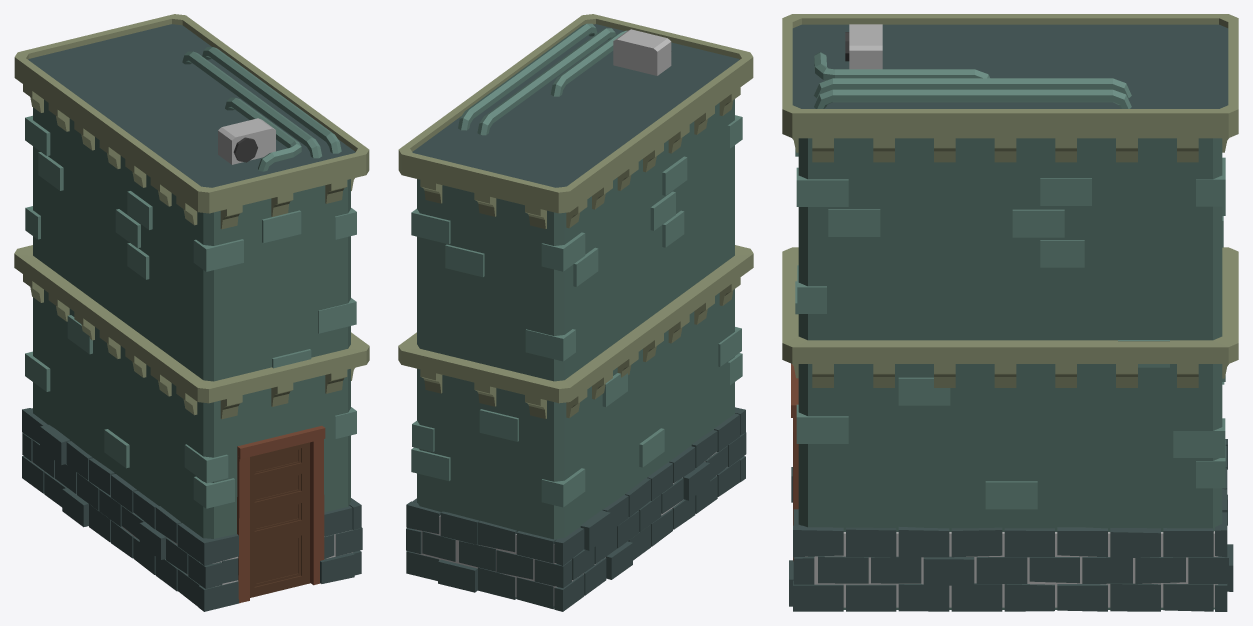
Rendered from 2Story_Slim_Mat.glb.
The picture shows the model from 3 angles, left to right: view 1: azimuth 30°, elevation 25°; view 2: azimuth 150°, elevation 25°; view 3: azimuth 270°, elevation 25°; orthographic projection. The views are drawn at different scales.
Visible parts, largest first — view 1: 2Story_Slim_Mat; view 2: 2Story_Slim_Mat; view 3: 2Story_Slim_Mat.
Boxes of the visible parts, box(x1,y1,x2,y2) form: 2Story_Slim_Mat: box(14, 14, 369, 611); 2Story_Slim_Mat: box(398, 14, 753, 611); 2Story_Slim_Mat: box(782, 14, 1238, 611).
Size of the model in its own units: 1.12 by 2.76 by 2.15.
